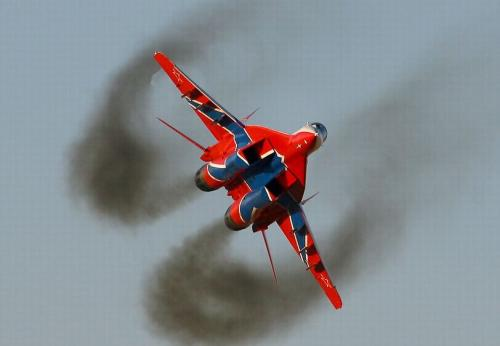smoke: (166, 230, 261, 342), (82, 117, 177, 223)
